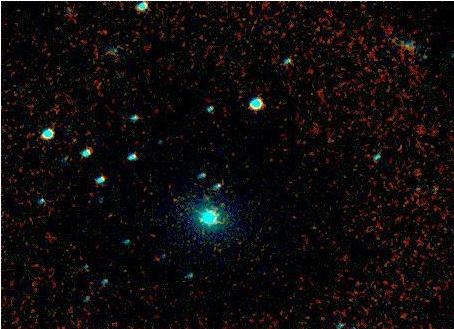star: (144, 247, 174, 277)
